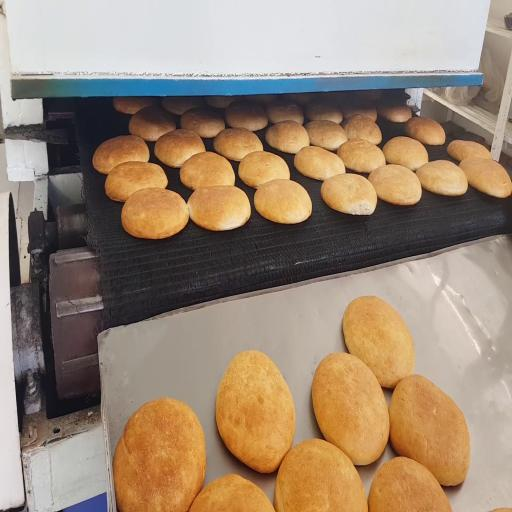bread: (113, 398, 206, 511), (216, 351, 295, 473), (389, 375, 470, 485), (312, 353, 389, 465), (274, 439, 367, 511), (343, 296, 414, 388), (369, 457, 451, 511), (122, 188, 188, 239), (190, 475, 274, 511), (187, 185, 250, 231), (254, 180, 311, 224), (105, 162, 167, 201), (321, 174, 377, 215), (93, 136, 149, 174), (460, 157, 511, 198), (180, 152, 235, 190), (369, 165, 421, 205), (155, 129, 205, 167), (239, 152, 290, 188), (416, 160, 467, 195), (294, 146, 345, 180), (214, 128, 263, 161), (338, 139, 385, 173), (129, 107, 175, 141), (383, 137, 428, 171), (266, 121, 309, 154), (180, 108, 225, 138), (305, 120, 347, 151), (225, 102, 267, 131), (342, 114, 381, 145), (406, 117, 445, 145), (447, 140, 492, 161), (266, 100, 304, 124), (306, 101, 342, 124), (113, 97, 158, 114), (162, 97, 203, 115), (377, 103, 411, 123), (343, 105, 377, 121), (205, 96, 241, 109), (283, 93, 319, 105), (245, 94, 278, 105), (356, 90, 382, 101), (491, 508, 511, 511)
